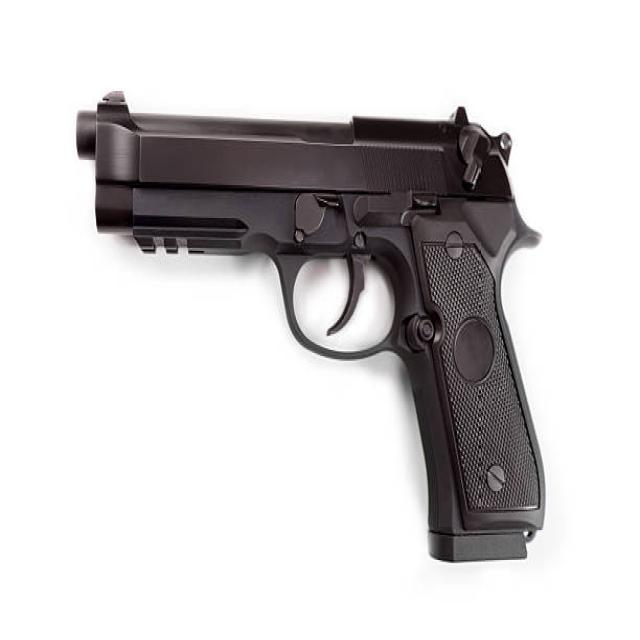pistol: (69, 91, 555, 575)
